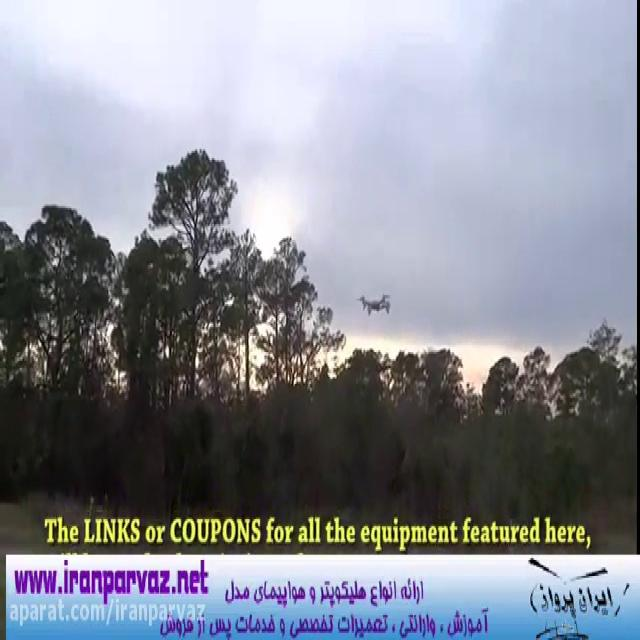drone: (355, 288, 392, 320)
